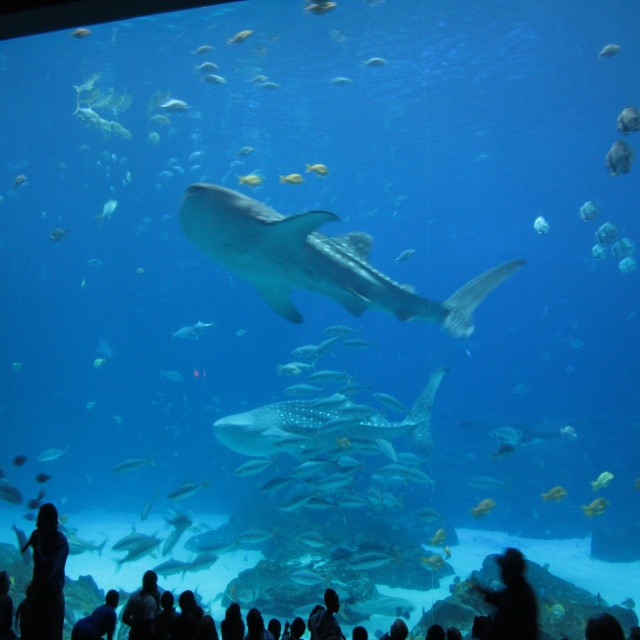Shark: (183, 182, 527, 337), (218, 364, 446, 454)
